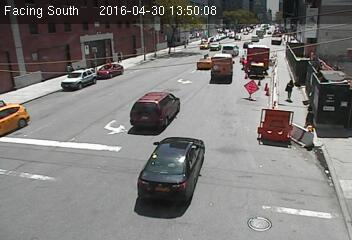neg: (238, 103, 265, 139), (50, 139, 77, 175), (170, 114, 195, 148), (102, 103, 127, 137), (308, 37, 332, 69), (134, 181, 157, 212), (24, 85, 46, 115), (247, 173, 269, 202), (208, 29, 230, 58), (133, 61, 151, 84)
pos: (282, 76, 302, 102)
